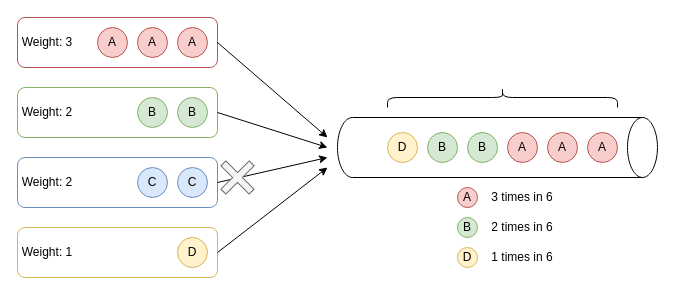
Some shapes in this 675 by 295 pixel diagram are drawn without their labels. The centre of each missing label's shape, as x and y in pixels:
"1 Cycle" goes at point 502,97.
"Dead" goes at point 237,177.
